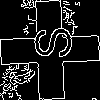S: (25, 25, 72, 60)
